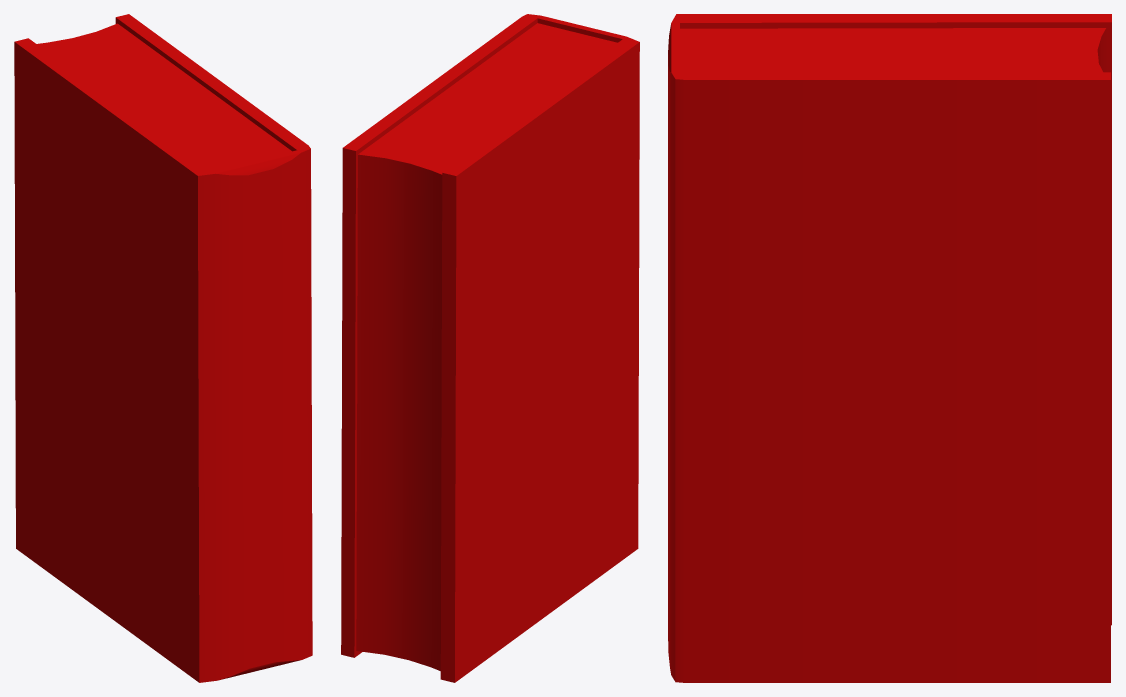
Rendered from Attic_Book_06_LP.glb.
The picture shows the model from 3 angles, left to right: view 1: azimuth 30°, elevation 25°; view 2: azimuth 150°, elevation 25°; view 3: azimuth 270°, elevation 25°; orthographic projection. The views are drawn at different scales.
Parts seen in each view (by area): view 1: Attic_Book_06_LP; view 2: Attic_Book_06_LP; view 3: Attic_Book_06_LP.
Boxes of the visible parts, x1,y1,x2,y2 form: Attic_Book_06_LP: (14,14,312,682); Attic_Book_06_LP: (341,14,639,682); Attic_Book_06_LP: (668,14,1111,682).
Bounding box in the file's own units: 0.0776 × 0.3249 × 0.217.
